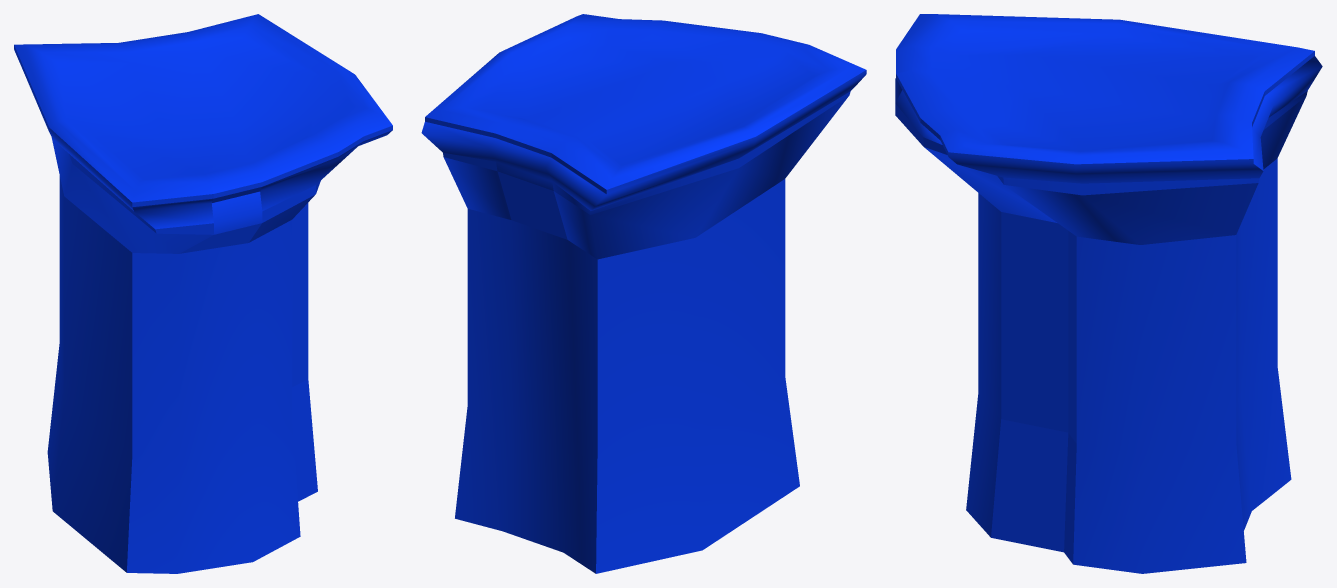
The model's file is DungeonMid3.fbx.
3 views of the same model, side by side, from view 1: azimuth 30°, elevation 25°; view 2: azimuth 150°, elevation 25°; view 3: azimuth 270°, elevation 25° (orthographic). The views are drawn at different scales.
Visible parts, largest first — view 1: DungeonMideum3; view 2: DungeonMideum3; view 3: DungeonMideum3.
Boxes of the visible parts, bbox=[...] form: DungeonMideum3: bbox=[14, 14, 392, 573]; DungeonMideum3: bbox=[421, 14, 866, 573]; DungeonMideum3: bbox=[895, 14, 1322, 573].
Size of the model in its own units: 385 by 463 by 513.
